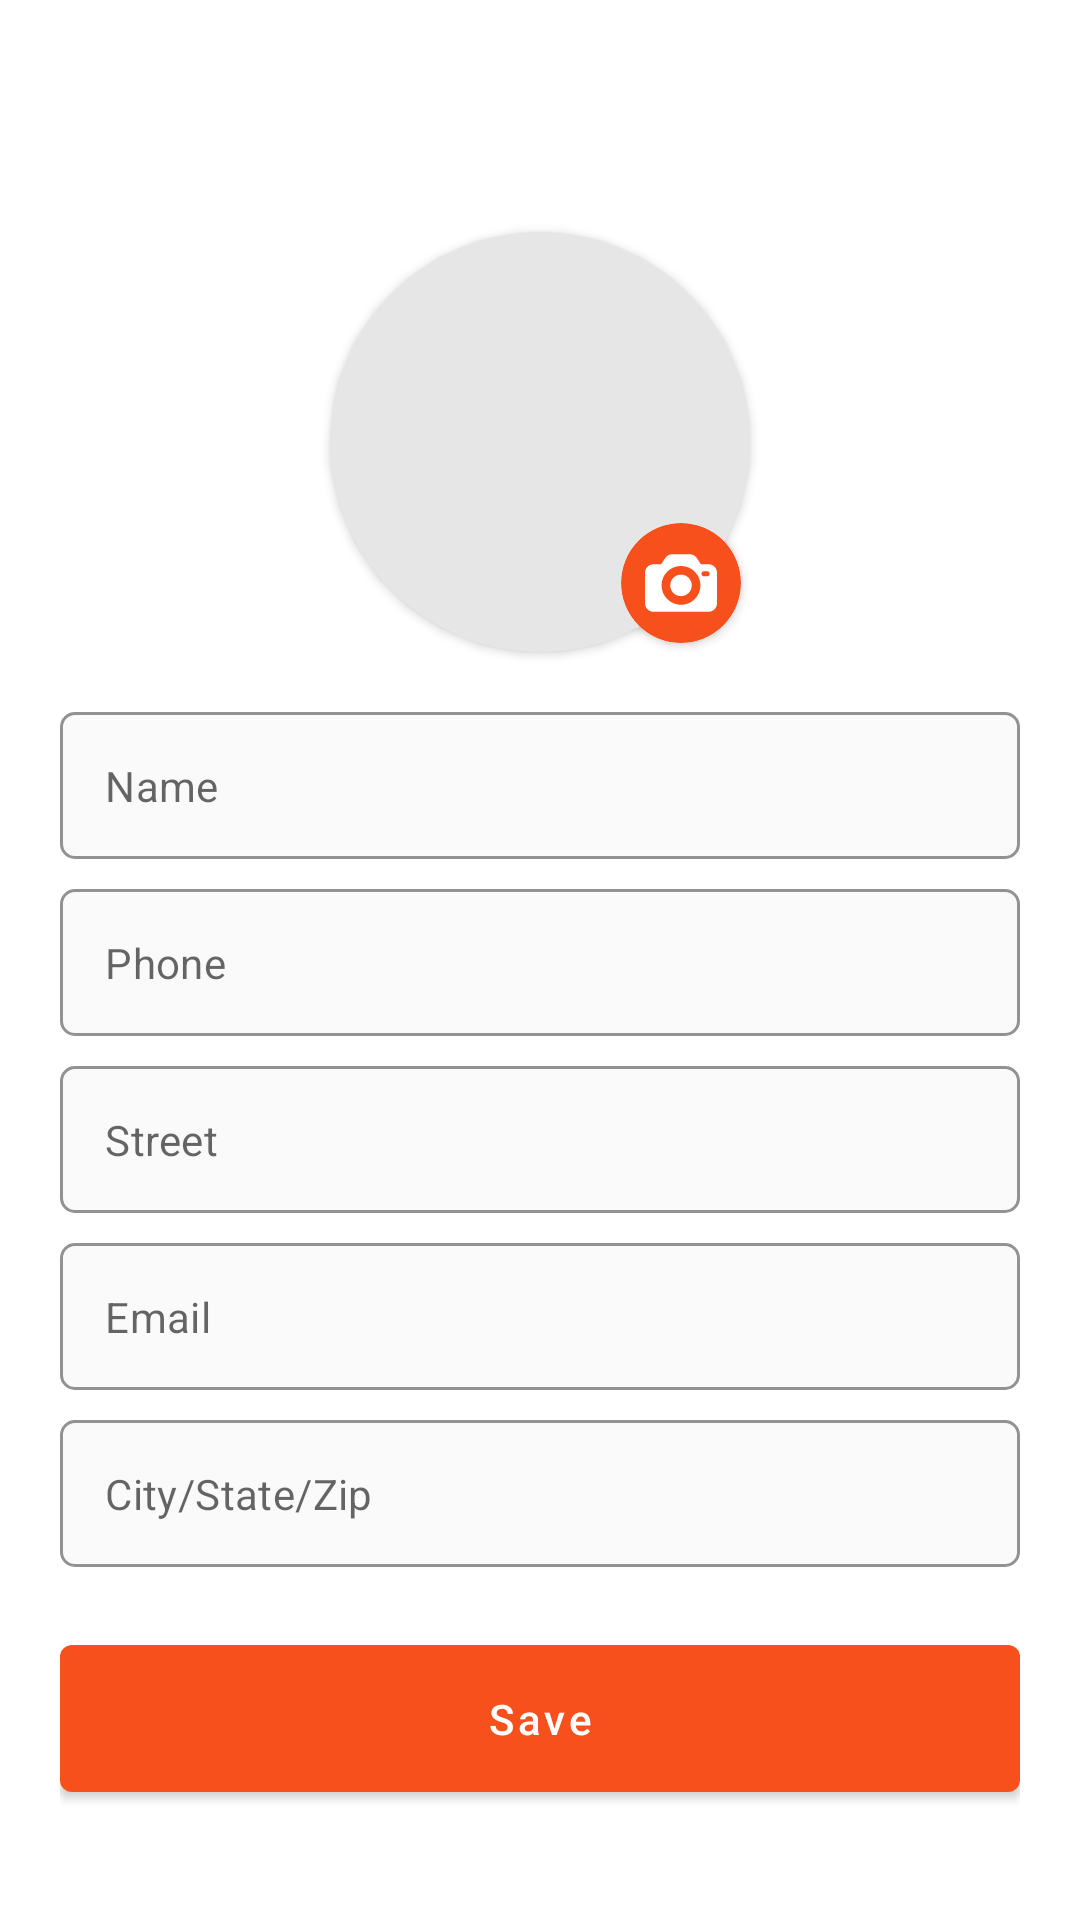

Named icons in this screenshot (1080px×1920px) and their centers, (x=x, y=y):
photo camera: (x=681, y=583)
